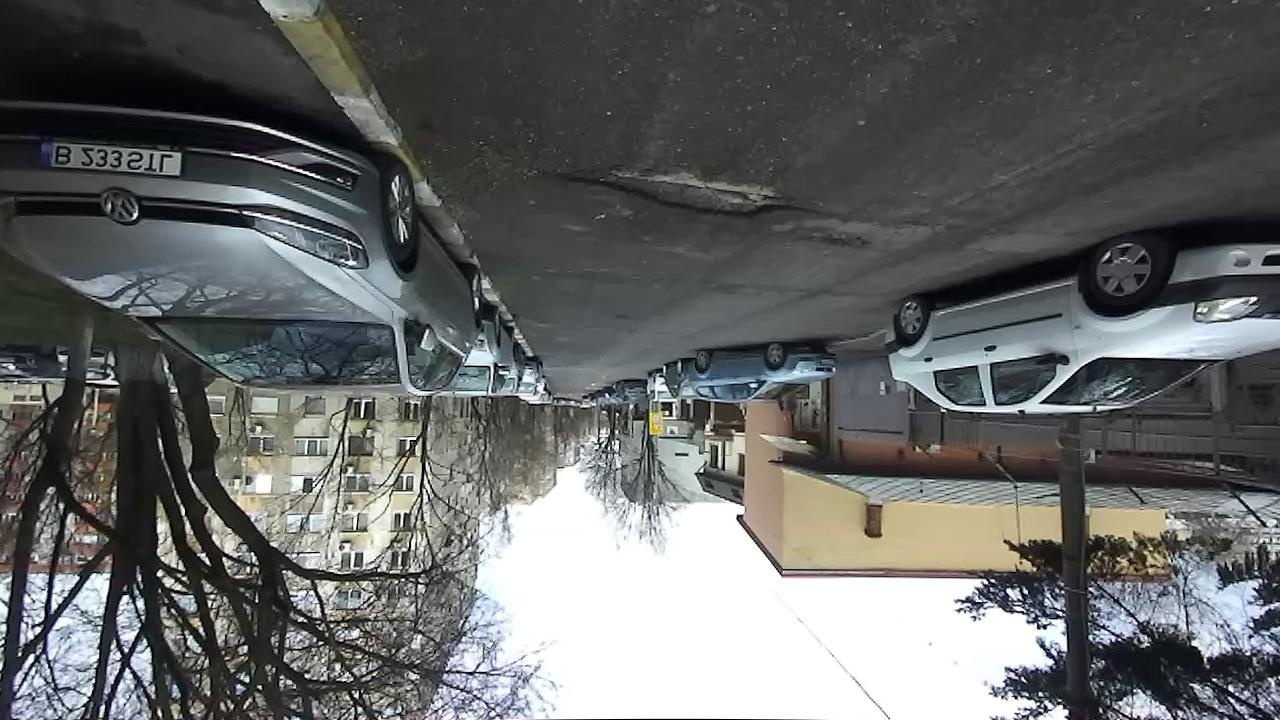pothole: (560, 163, 820, 222), (792, 231, 877, 254)
